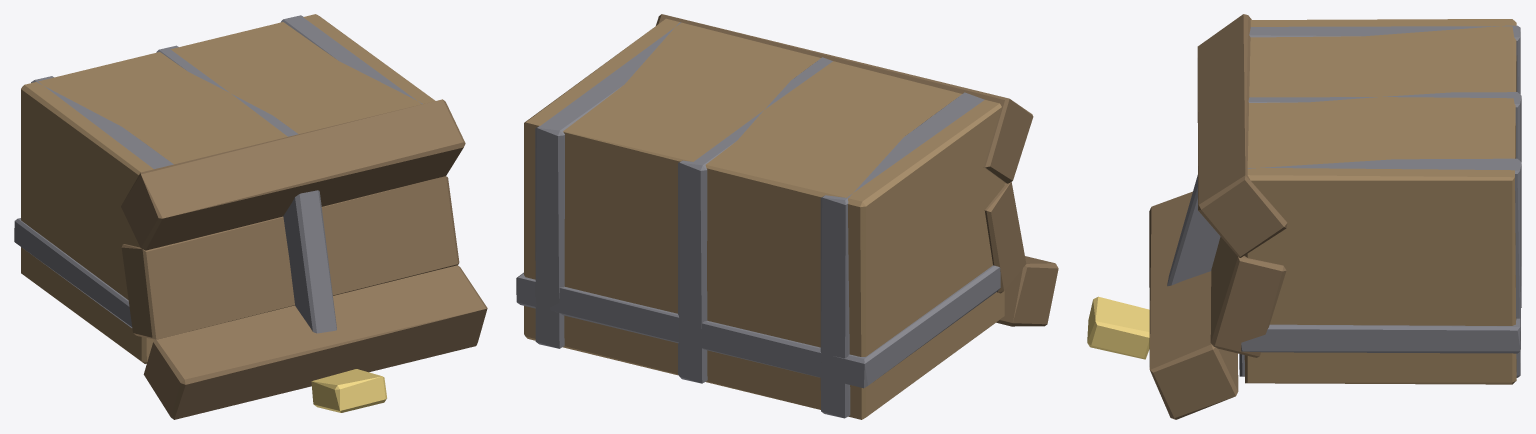
Rendered from dgn_chest_open.glb.
3 renders of one model, left to right at view 1: azimuth 30°, elevation 25°; view 2: azimuth 150°, elevation 25°; view 3: azimuth 270°, elevation 25°, orthographic. The views are drawn at different scales.
Parts seen in each view (by area): view 1: dgn_chest_open; view 2: dgn_chest_open; view 3: dgn_chest_open.
Part boxes in pixels (x1=…): dgn_chest_open: x1=14, y1=14, x2=487, y2=419; dgn_chest_open: x1=516, y1=14, x2=1058, y2=419; dgn_chest_open: x1=1087, y1=14, x2=1521, y2=419.
Bounding box in the file's own units: 0.74 × 0.5335 × 0.8274.
